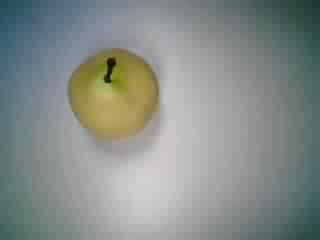pear: (61, 42, 160, 145)
